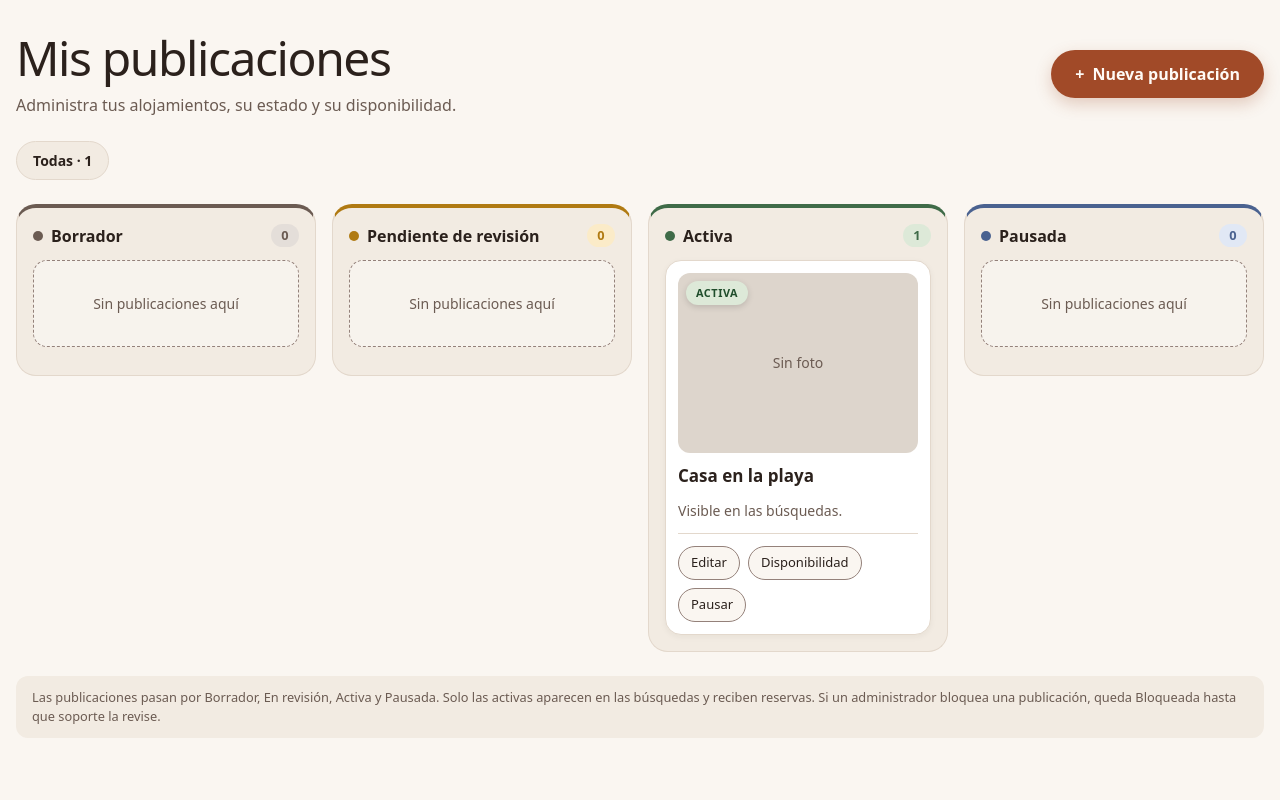
MisPublicacionesPage › pausa una publicación activa y después ofrece reactivarla
Later steps or results of the test are not shown.
Expected: the text "Visible en las búsquedas." is shown, [678,501,842,520]
Click the button with aria-label "Pausar Casa en la playa" at (712, 605), box [678,588,746,622]
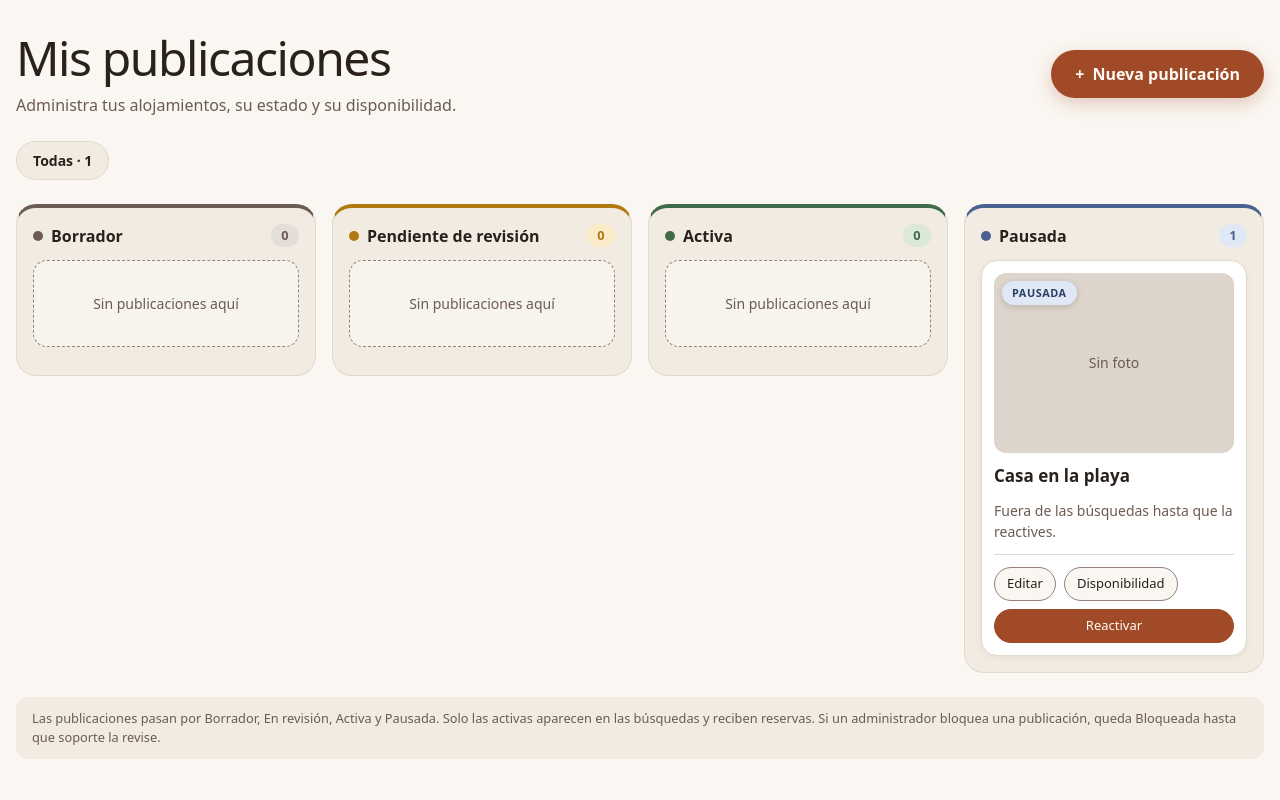
Expected: the heading "Pausada" is shown, [981,224,1067,248]
Now the text "Fuera de las búsquedas hasta que la reactives." is shown, box [994,500,1234,542]
